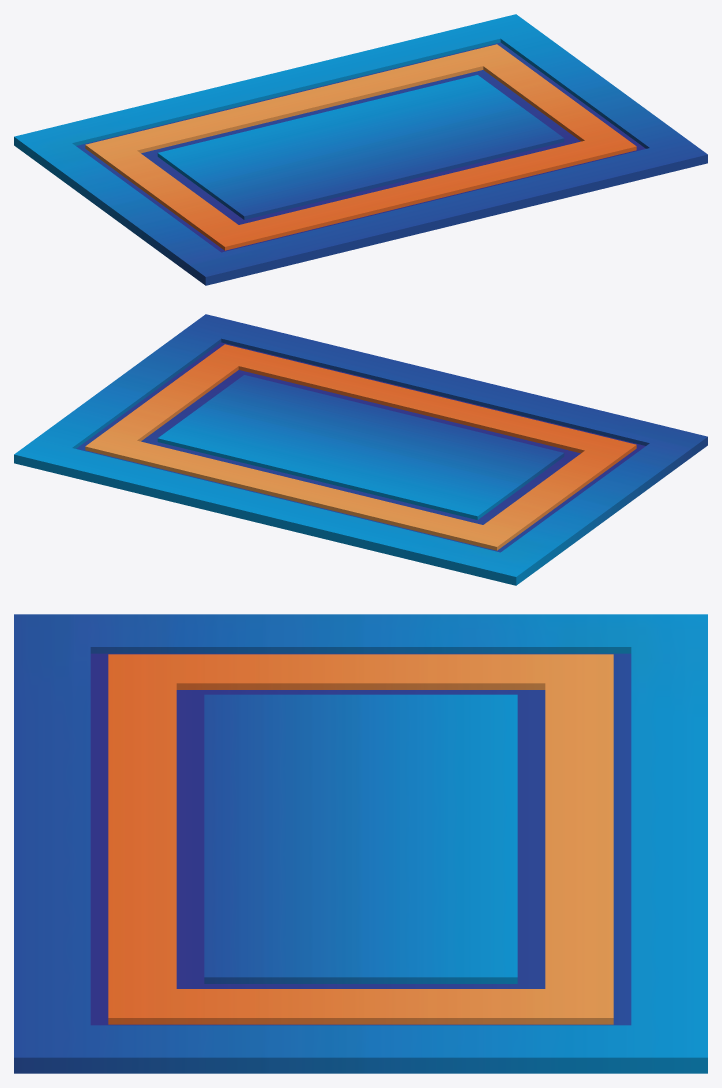
Rendered from Rug.FBX.
3 renders of one model, top to bottom at view 1: azimuth 30°, elevation 25°; view 2: azimuth 150°, elevation 25°; view 3: azimuth 270°, elevation 25°, orthographic. The views are drawn at different scales.
Visible parts, largest first — view 1: Rug; view 2: Rug; view 3: Rug.
Part boxes in pixels (left/top/right/bottom): Rug: left=14, top=14, right=707, bottom=285; Rug: left=14, top=314, right=707, bottom=585; Rug: left=14, top=614, right=707, bottom=1073.
Size of the model in its own units: 579 by 9.68 by 383.
Materials: 1 (1 with a texture image).
